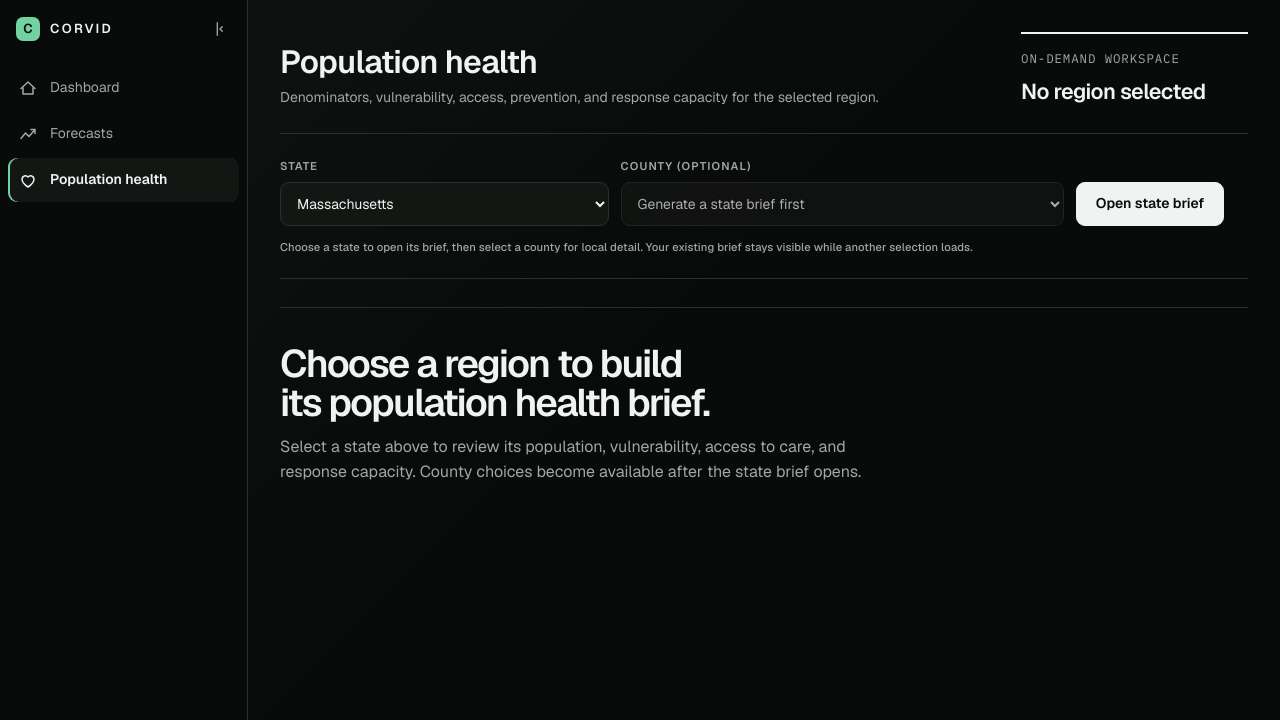
PopulationHealthPage › cuts to the loading screen while the very first geography loads
The image size is (1280, 720).
Select "California" in the dropdown labelled "State". click: (444, 204)
box: x1=280 y1=182 x2=608 y2=226
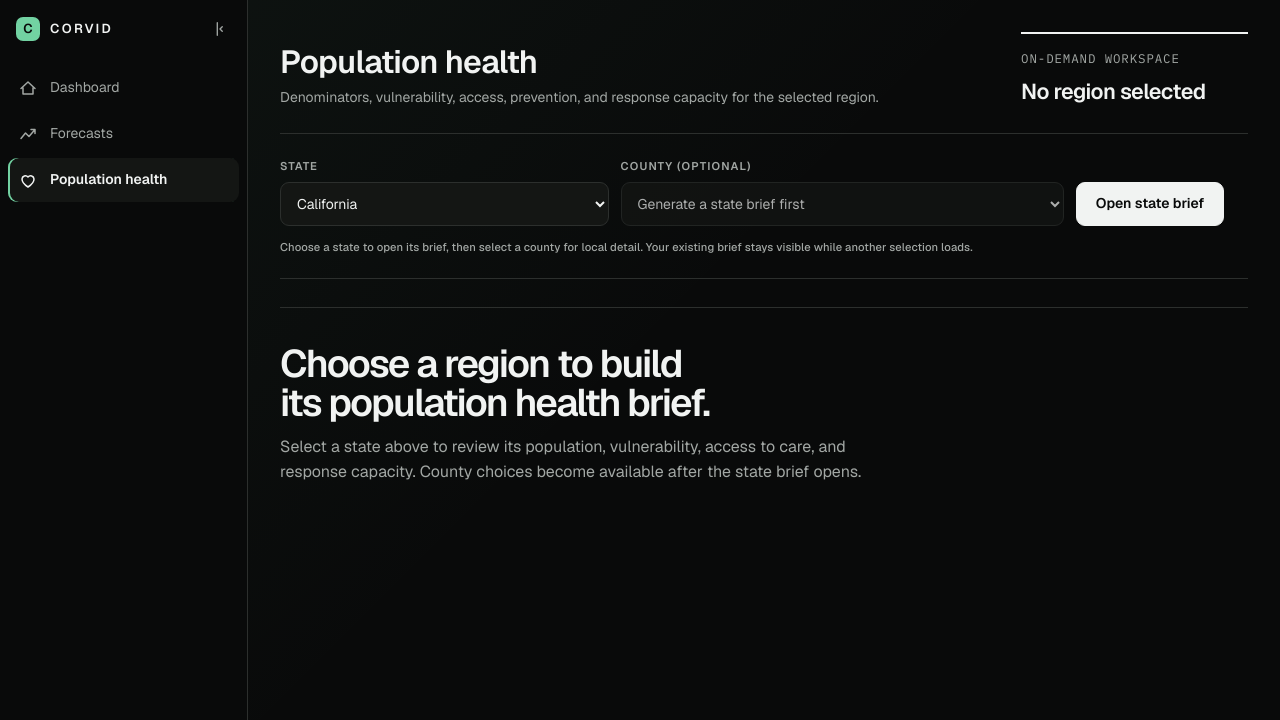
Click the button "Open state brief". click: (1150, 204)
box: x1=1076 y1=182 x2=1224 y2=226
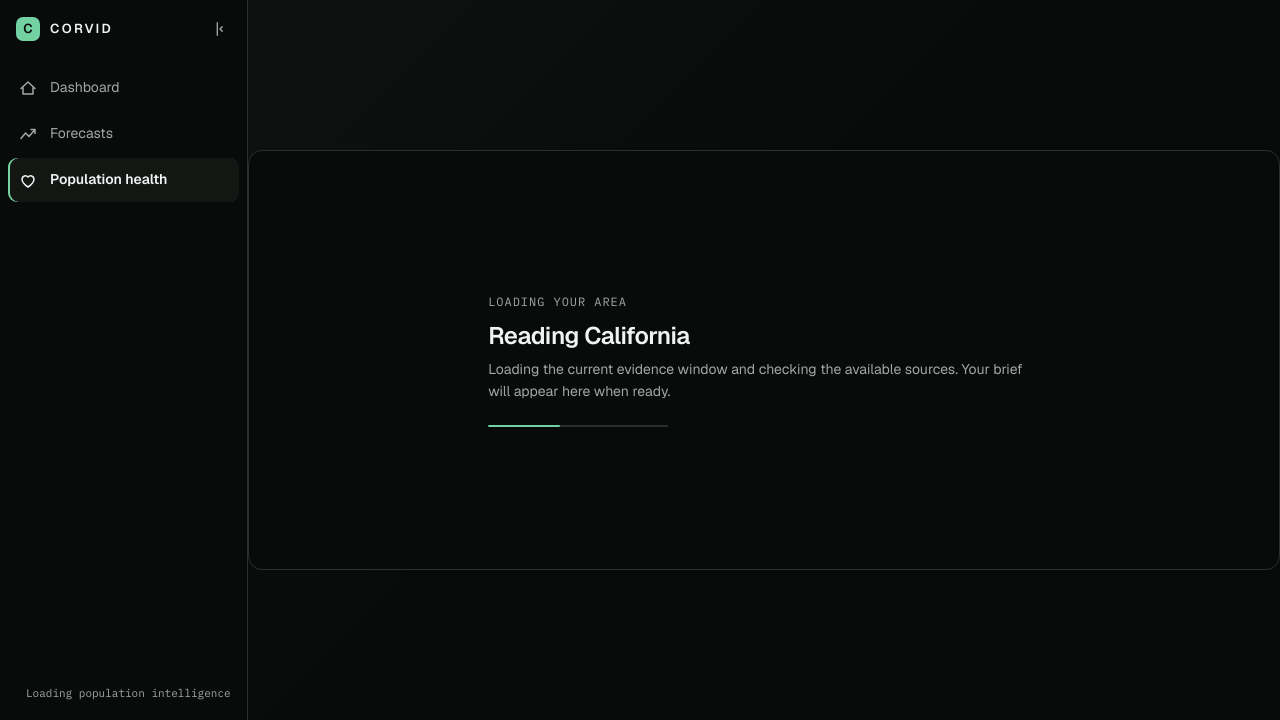
Now the heading "Reading California" is shown, box x1=488 y1=320 x2=690 y2=351
Now the text "Loading the current evidence window and checking the available sources" is shown, box x1=488 y1=360 x2=1023 y2=400
